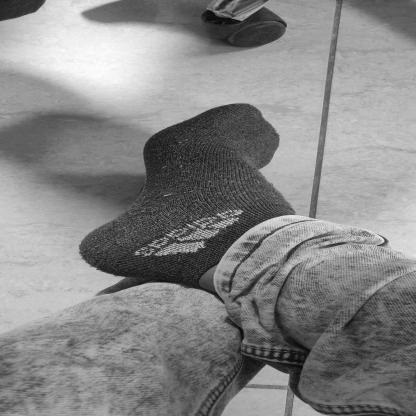ankle: (215, 220, 223, 225)
heel: (93, 248, 97, 251)
pinky: (266, 162, 270, 164)
right_foot: (80, 105, 282, 281)
toe: (245, 111, 252, 114)
